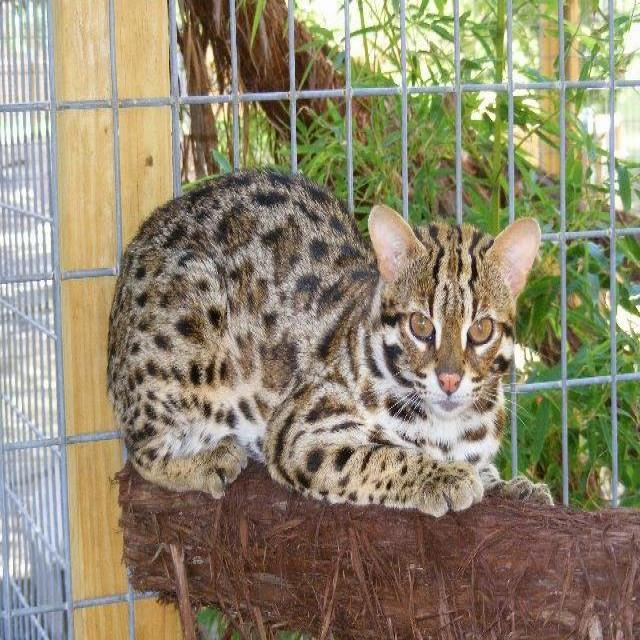leopard: (102, 165, 589, 534)
